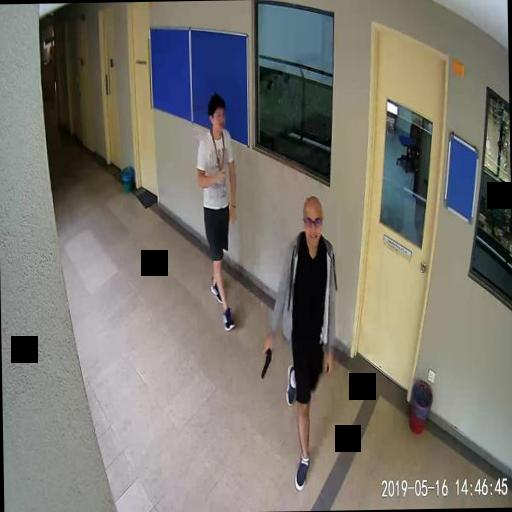Handgun: (260, 345, 272, 376)
